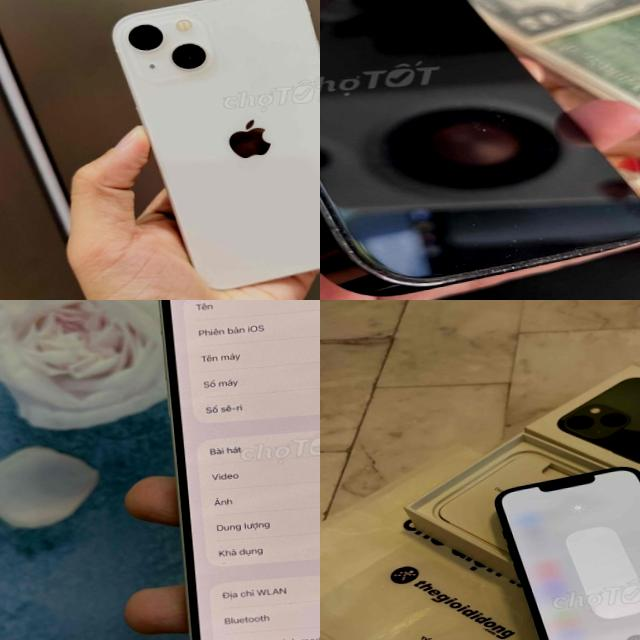gen_12_13: (112, 0, 320, 288), (488, 458, 640, 640)
gen_14: (320, 0, 640, 300)
gen_16: (143, 300, 320, 640)
scratch: (436, 235, 640, 288), (320, 165, 384, 300)
